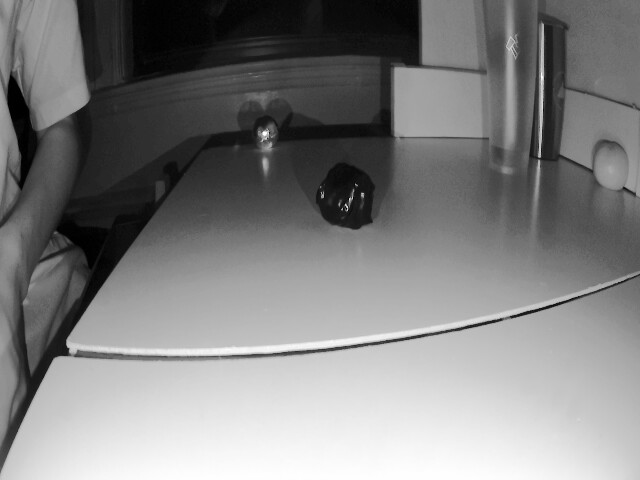black: (313, 166, 371, 229)
silver: (254, 117, 281, 154)
